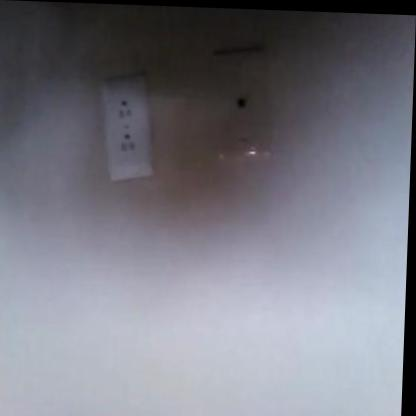OUTLET: (99, 75, 158, 182)
